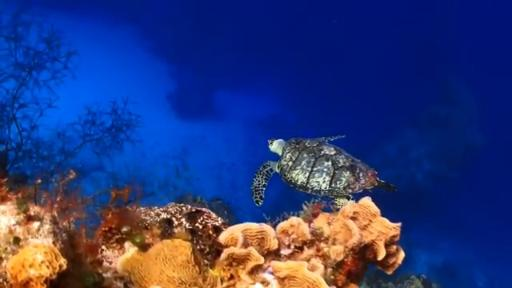Fish: (252, 136, 395, 206)
